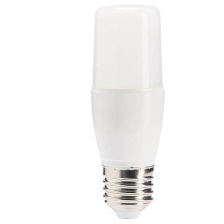light_bulb: (85, 1, 169, 222)
